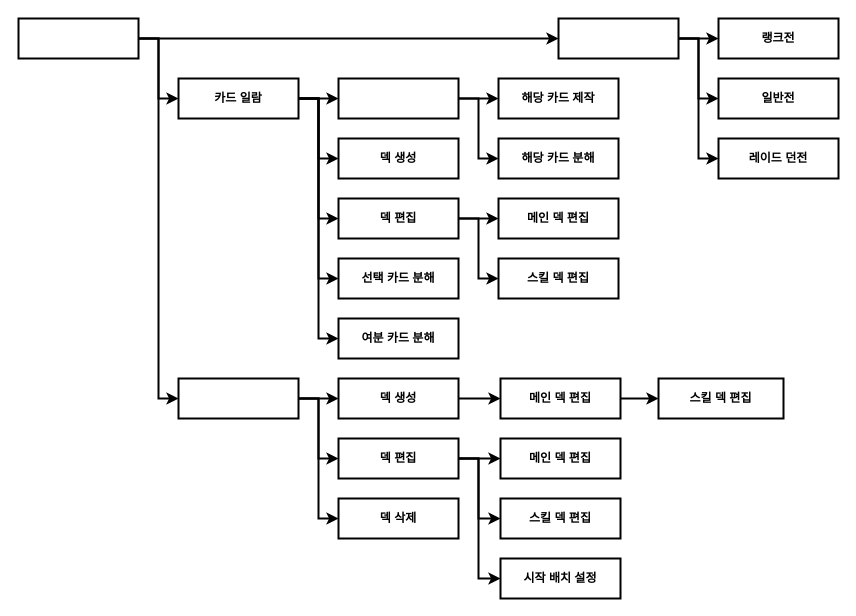
Image size: 856x616. Some labels were removed from this diagram. The shapes that lost their labels are listed below. From the top down, each one's centre as x and y in pixels, then its label:
point (78, 38): 메인 화면
point (618, 38): 대전
point (398, 98): 카드 자세히 보기
point (238, 398): 덱 일람
